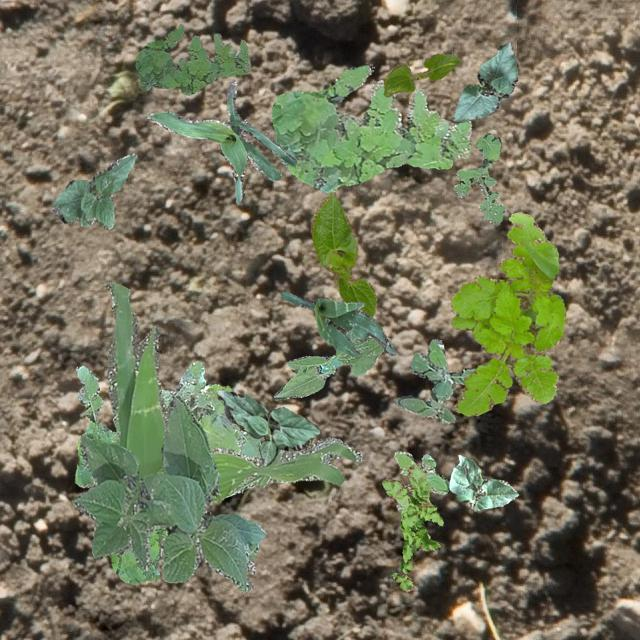crop: (70, 397, 266, 592), (146, 78, 296, 204), (310, 192, 376, 316), (272, 330, 383, 400), (216, 388, 318, 464), (280, 290, 396, 356), (52, 152, 136, 228), (452, 41, 518, 122), (448, 454, 518, 509), (382, 52, 460, 96)
weed: (106, 281, 362, 504), (270, 64, 470, 192), (74, 361, 260, 486), (450, 212, 564, 414), (134, 22, 250, 94), (380, 464, 442, 590), (394, 338, 474, 422), (452, 132, 504, 224), (392, 450, 448, 510), (108, 526, 166, 582)
